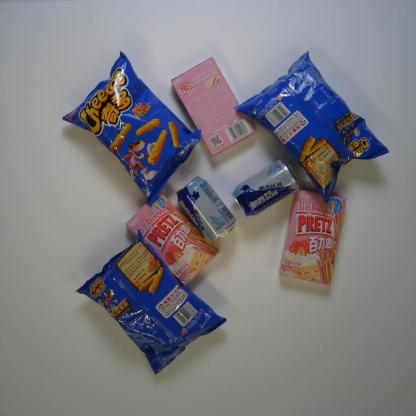Alcohol: (175, 175, 236, 243), (231, 160, 302, 218)
Dessert: (125, 190, 220, 287), (170, 55, 256, 158), (279, 188, 347, 287)
Puffed Food: (235, 51, 390, 209), (75, 228, 227, 376), (61, 50, 202, 208)
